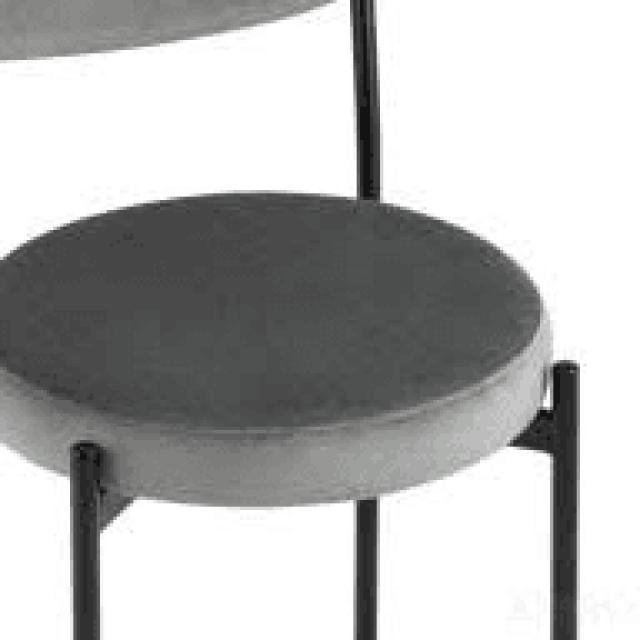chair: (0, 0, 590, 640), (0, 0, 553, 511)
